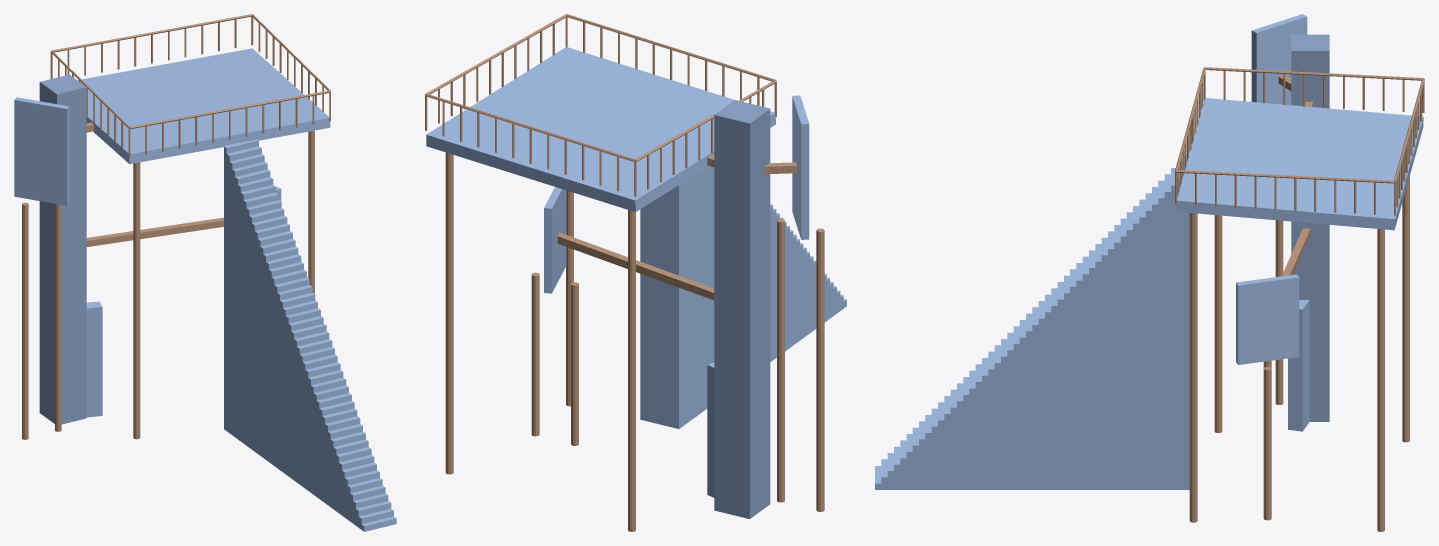
Rendered from folie_tag_062.glb.
3 views of the same model, side by side, from view 1: azimuth 30°, elevation 25°; view 2: azimuth 150°, elevation 25°; view 3: azimuth 270°, elevation 25° (orthographic). The views are drawn at different scales.
Visible parts, largest first — view 1: folie_tag_062_stairs, folie_tag_062_00_plate, folie_tag_062_line, folie_tag_062_core, folie_tag_062_01_panel, folie_tag_062_02_fin; view 2: folie_tag_062_00_plate, folie_tag_062_core, folie_tag_062_line, folie_tag_062_stairs, folie_tag_062_01_panel, folie_tag_062_03_panel, folie_tag_062_02_fin; view 3: folie_tag_062_stairs, folie_tag_062_00_plate, folie_tag_062_line, folie_tag_062_core, folie_tag_062_03_panel, folie_tag_062_01_panel, folie_tag_062_02_fin.
Boxes of the visible parts, left/top/right/bottom form: folie_tag_062_stairs: left=224, top=139, right=396, bottom=531; folie_tag_062_00_plate: left=77, top=48, right=330, bottom=164; folie_tag_062_line: left=22, top=14, right=331, bottom=439; folie_tag_062_core: left=39, top=74, right=86, bottom=424; folie_tag_062_01_panel: left=14, top=97, right=69, bottom=205; folie_tag_062_02_fin: left=86, top=301, right=102, bottom=417; folie_tag_062_00_plate: left=426, top=47, right=775, bottom=212; folie_tag_062_core: left=714, top=100, right=770, bottom=518; folie_tag_062_line: left=425, top=14, right=824, bottom=531; folie_tag_062_stairs: left=640, top=166, right=846, bottom=428; folie_tag_062_01_panel: left=792, top=95, right=809, bottom=239; folie_tag_062_03_panel: left=544, top=187, right=566, bottom=293; folie_tag_062_02_fin: left=707, top=362, right=714, bottom=497; folie_tag_062_stairs: left=875, top=155, right=1189, bottom=489; folie_tag_062_00_plate: left=1176, top=98, right=1423, bottom=230; folie_tag_062_line: left=1175, top=67, right=1424, bottom=531; folie_tag_062_core: left=1291, top=34, right=1329, bottom=421; folie_tag_062_03_panel: left=1236, top=274, right=1299, bottom=364; folie_tag_062_01_panel: left=1251, top=14, right=1307, bottom=105; folie_tag_062_02_fin: left=1288, top=300, right=1309, bottom=431.
Size of the model in its own units: 10.45 by 11.71 by 15.73.
